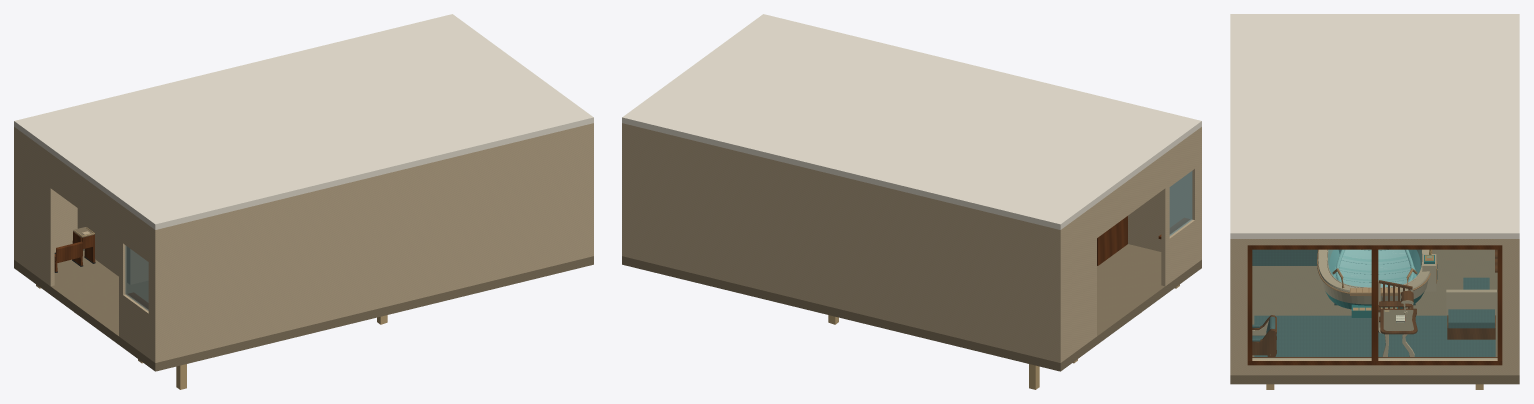
Rendered from NG404_WarmInterior_r001.glb.
3 renders of one model, left to right at view 1: azimuth 30°, elevation 25°; view 2: azimuth 150°, elevation 25°; view 3: azimuth 270°, elevation 25°, orthographic. The views are drawn at different scales.
Parts seen in each view (by area): view 1: NG404_RuntimeBatch_001, NG404_RoomFloor, NG404_ScreenedStreetGlass, NG404_RuntimeBatch_013; view 2: NG404_RuntimeBatch_001, NG404_RoomFloor, NG404_ScreenedStreetGlass, NG404_RuntimeBatch_002; view 3: NG404_RuntimeBatch_001, NGP_404_PrivateViewPane, NG404_RoomFloor, NGW_404_OutlookFloorInlay, NG404_ReservedRestSupport_01__WaterSurface_VisualOnly, NG404_ReservedRestSupport_01__Contoured broad immersed rest , NG404_ReservedRestSupport_01__Hollow continuous basin shell , NGP_404_Frame_Sill, NG404_RuntimeBatch_006, NGP_404_Frame_Head, NGP_404_ViewSeat_Back, NGP_404_ViewSeat_Cushion (+10 smaller).
Boxes of the visible parts, bbox=[...] form: NG404_RuntimeBatch_001: bbox=[14, 14, 593, 362]; NG404_RoomFloor: bbox=[14, 250, 593, 371]; NG404_ScreenedStreetGlass: bbox=[125, 245, 148, 310]; NG404_RuntimeBatch_013: bbox=[54, 231, 95, 271]; NG404_RuntimeBatch_001: bbox=[622, 14, 1201, 362]; NG404_RoomFloor: bbox=[622, 244, 1201, 371]; NG404_ScreenedStreetGlass: bbox=[1169, 171, 1192, 235]; NG404_RuntimeBatch_002: bbox=[1097, 216, 1190, 265]; NG404_RuntimeBatch_001: bbox=[1230, 14, 1519, 375]; NGP_404_PrivateViewPane: bbox=[1252, 250, 1497, 358]; NG404_RoomFloor: bbox=[1230, 250, 1519, 384]; NGW_404_OutlookFloorInlay: bbox=[1254, 315, 1495, 356]; NG404_ReservedRestSupport_01__WaterSurface_VisualOnly: bbox=[1329, 250, 1420, 286]; NG404_ReservedRestSupport_01__Contoured broad immersed rest : bbox=[1335, 249, 1414, 287]; NG404_ReservedRestSupport_01__Hollow continuous basin shell : bbox=[1318, 249, 1429, 309]; NGP_404_Frame_Sill: bbox=[1247, 357, 1502, 365]; NG404_RuntimeBatch_006: bbox=[1252, 249, 1489, 289]; NGP_404_Frame_Head: bbox=[1247, 245, 1502, 249]; NGP_404_ViewSeat_Back: bbox=[1446, 289, 1496, 315]; NGP_404_ViewSeat_Cushion: bbox=[1448, 309, 1494, 328].
Size of the model in its own units: 12.9 by 5.31 by 7.2.
Materials: 40 (20 with a texture image).
